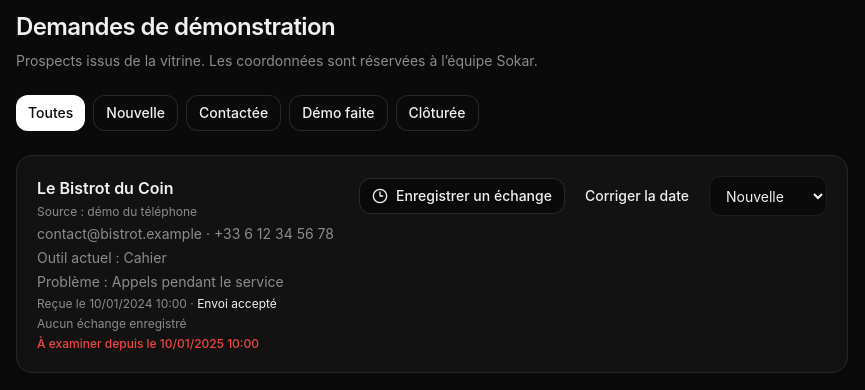
DemoRequestsPage › signale les demandes à examiner et peut enregistrer le dernier échange
Expected: the text "À examiner depuis le 10/01/2025 10:00" is shown, x1=37 y1=336 x2=259 y2=351
Click the button with aria-label "Enregistrer un échange pour Le Bistrot du Coin".
click(462, 196)  # box x1=359 y1=178 x2=565 y2=214
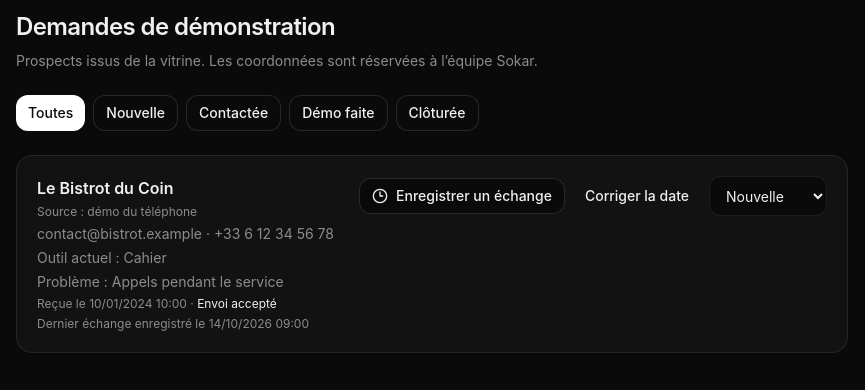
Expected: the text "À examiner depuis" is gone
Expected: the text "Dernier échange enregistré le 14/10/2026 09:00" is shown, x1=37 y1=316 x2=334 y2=332
